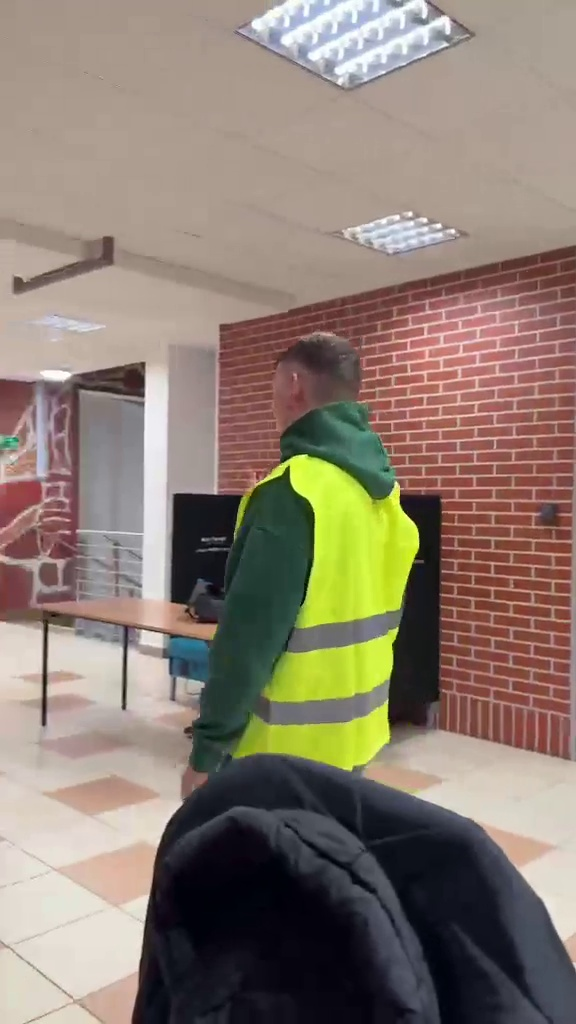vest: (218, 324, 423, 786)
